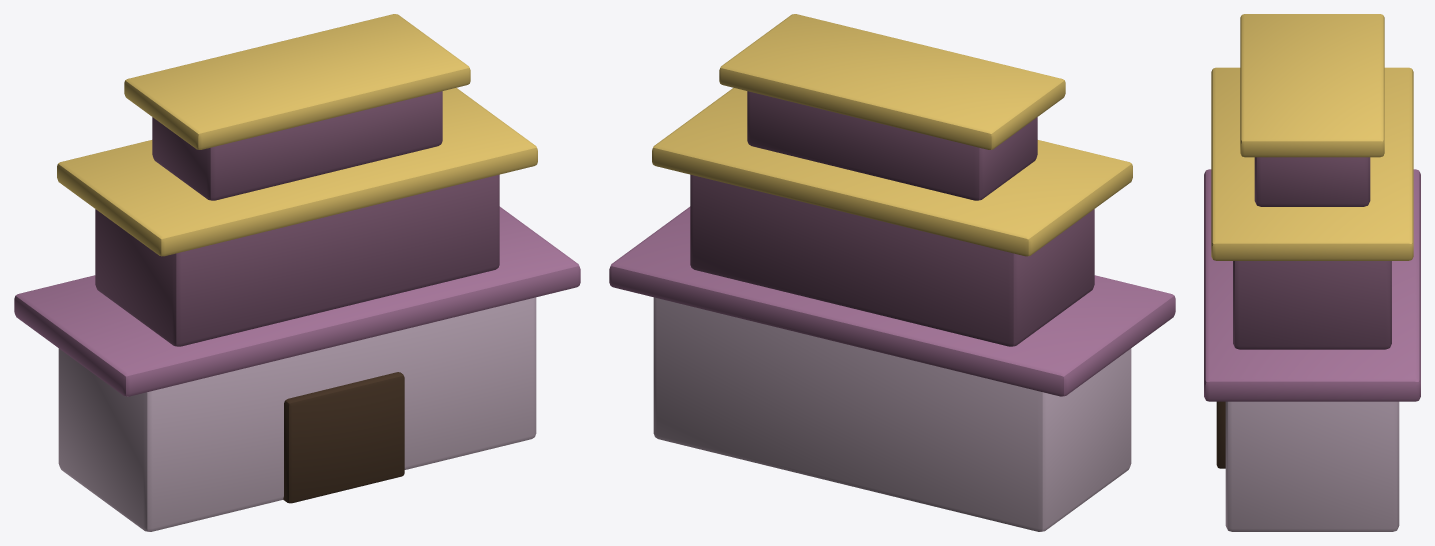
The picture shows the model from 3 angles, left to right: view 1: azimuth 30°, elevation 25°; view 2: azimuth 150°, elevation 25°; view 3: azimuth 270°, elevation 25°; orthographic projection. The views are drawn at different scales.
Visible parts, largest first — view 1: landmark_2e8d9da6; view 2: landmark_2e8d9da6; view 3: landmark_2e8d9da6.
Part boxes in pixels (<box>): landmark_2e8d9da6: <box>14,14,580,531</box>; landmark_2e8d9da6: <box>609,14,1175,531</box>; landmark_2e8d9da6: <box>1204,14,1420,531</box>.
Bounding box in the file's own units: 7 × 5.59 × 3.
